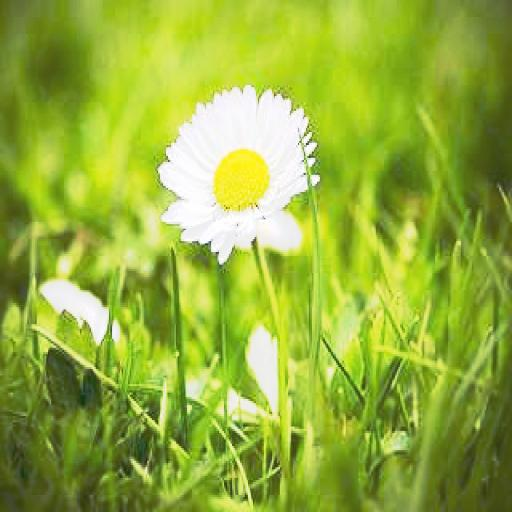daisy: (144, 90, 318, 243)
